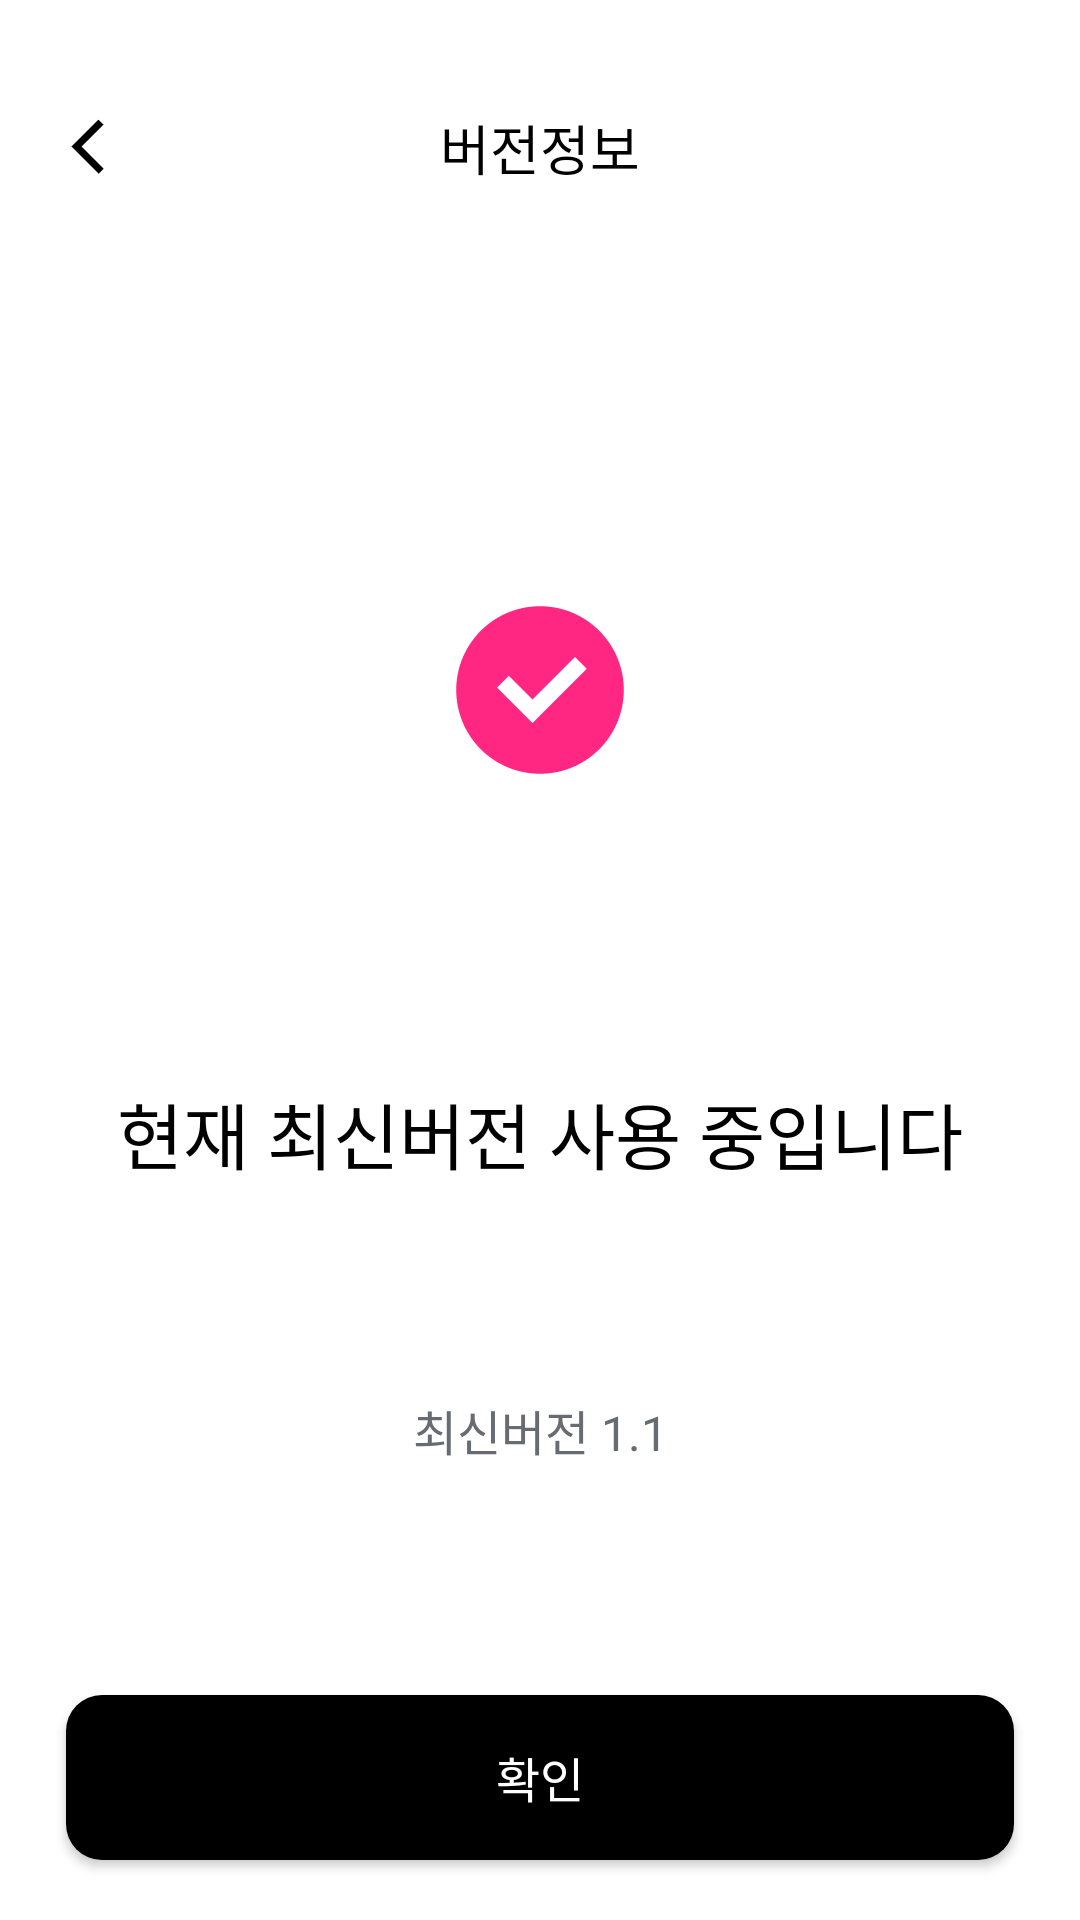

Icons on this 1080w x 1920h Android screen, each with its box as (x1, y1, x2, y2):
arrow left mono: (71, 120, 104, 174)
check circle mono: (456, 606, 624, 774)
